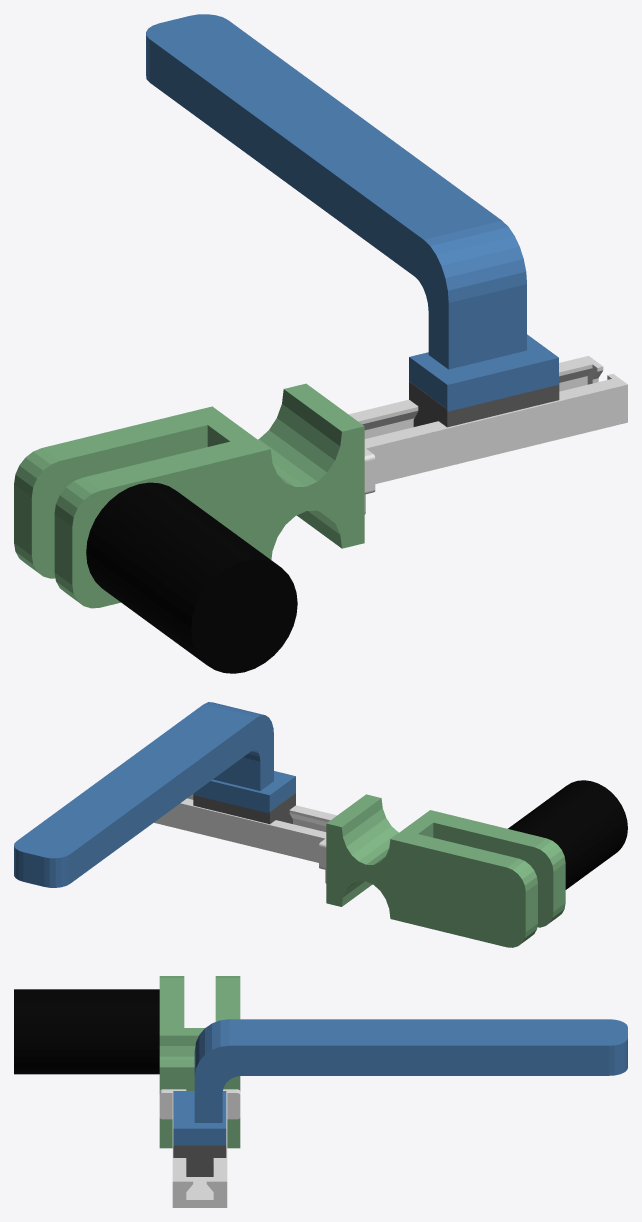
File: VIS_ElasticHingePart1.dae
3 renders of one model, top to bottom at view 1: azimuth 30°, elevation 25°; view 2: azimuth 150°, elevation 25°; view 3: azimuth 270°, elevation 25°, orthographic. The views are drawn at different scales.
Visible parts, largest first — view 1: VIS_ElasticHingePart1; view 2: VIS_ElasticHingePart1; view 3: VIS_ElasticHingePart1.
Part boxes in pixels (x1,y1,x2,y2): VIS_ElasticHingePart1: (14,14,627,673); VIS_ElasticHingePart1: (14,702,627,947); VIS_ElasticHingePart1: (14,976,627,1207).
Size of the model in its own units: 0.1263 by 0.1716 by 0.0512.
